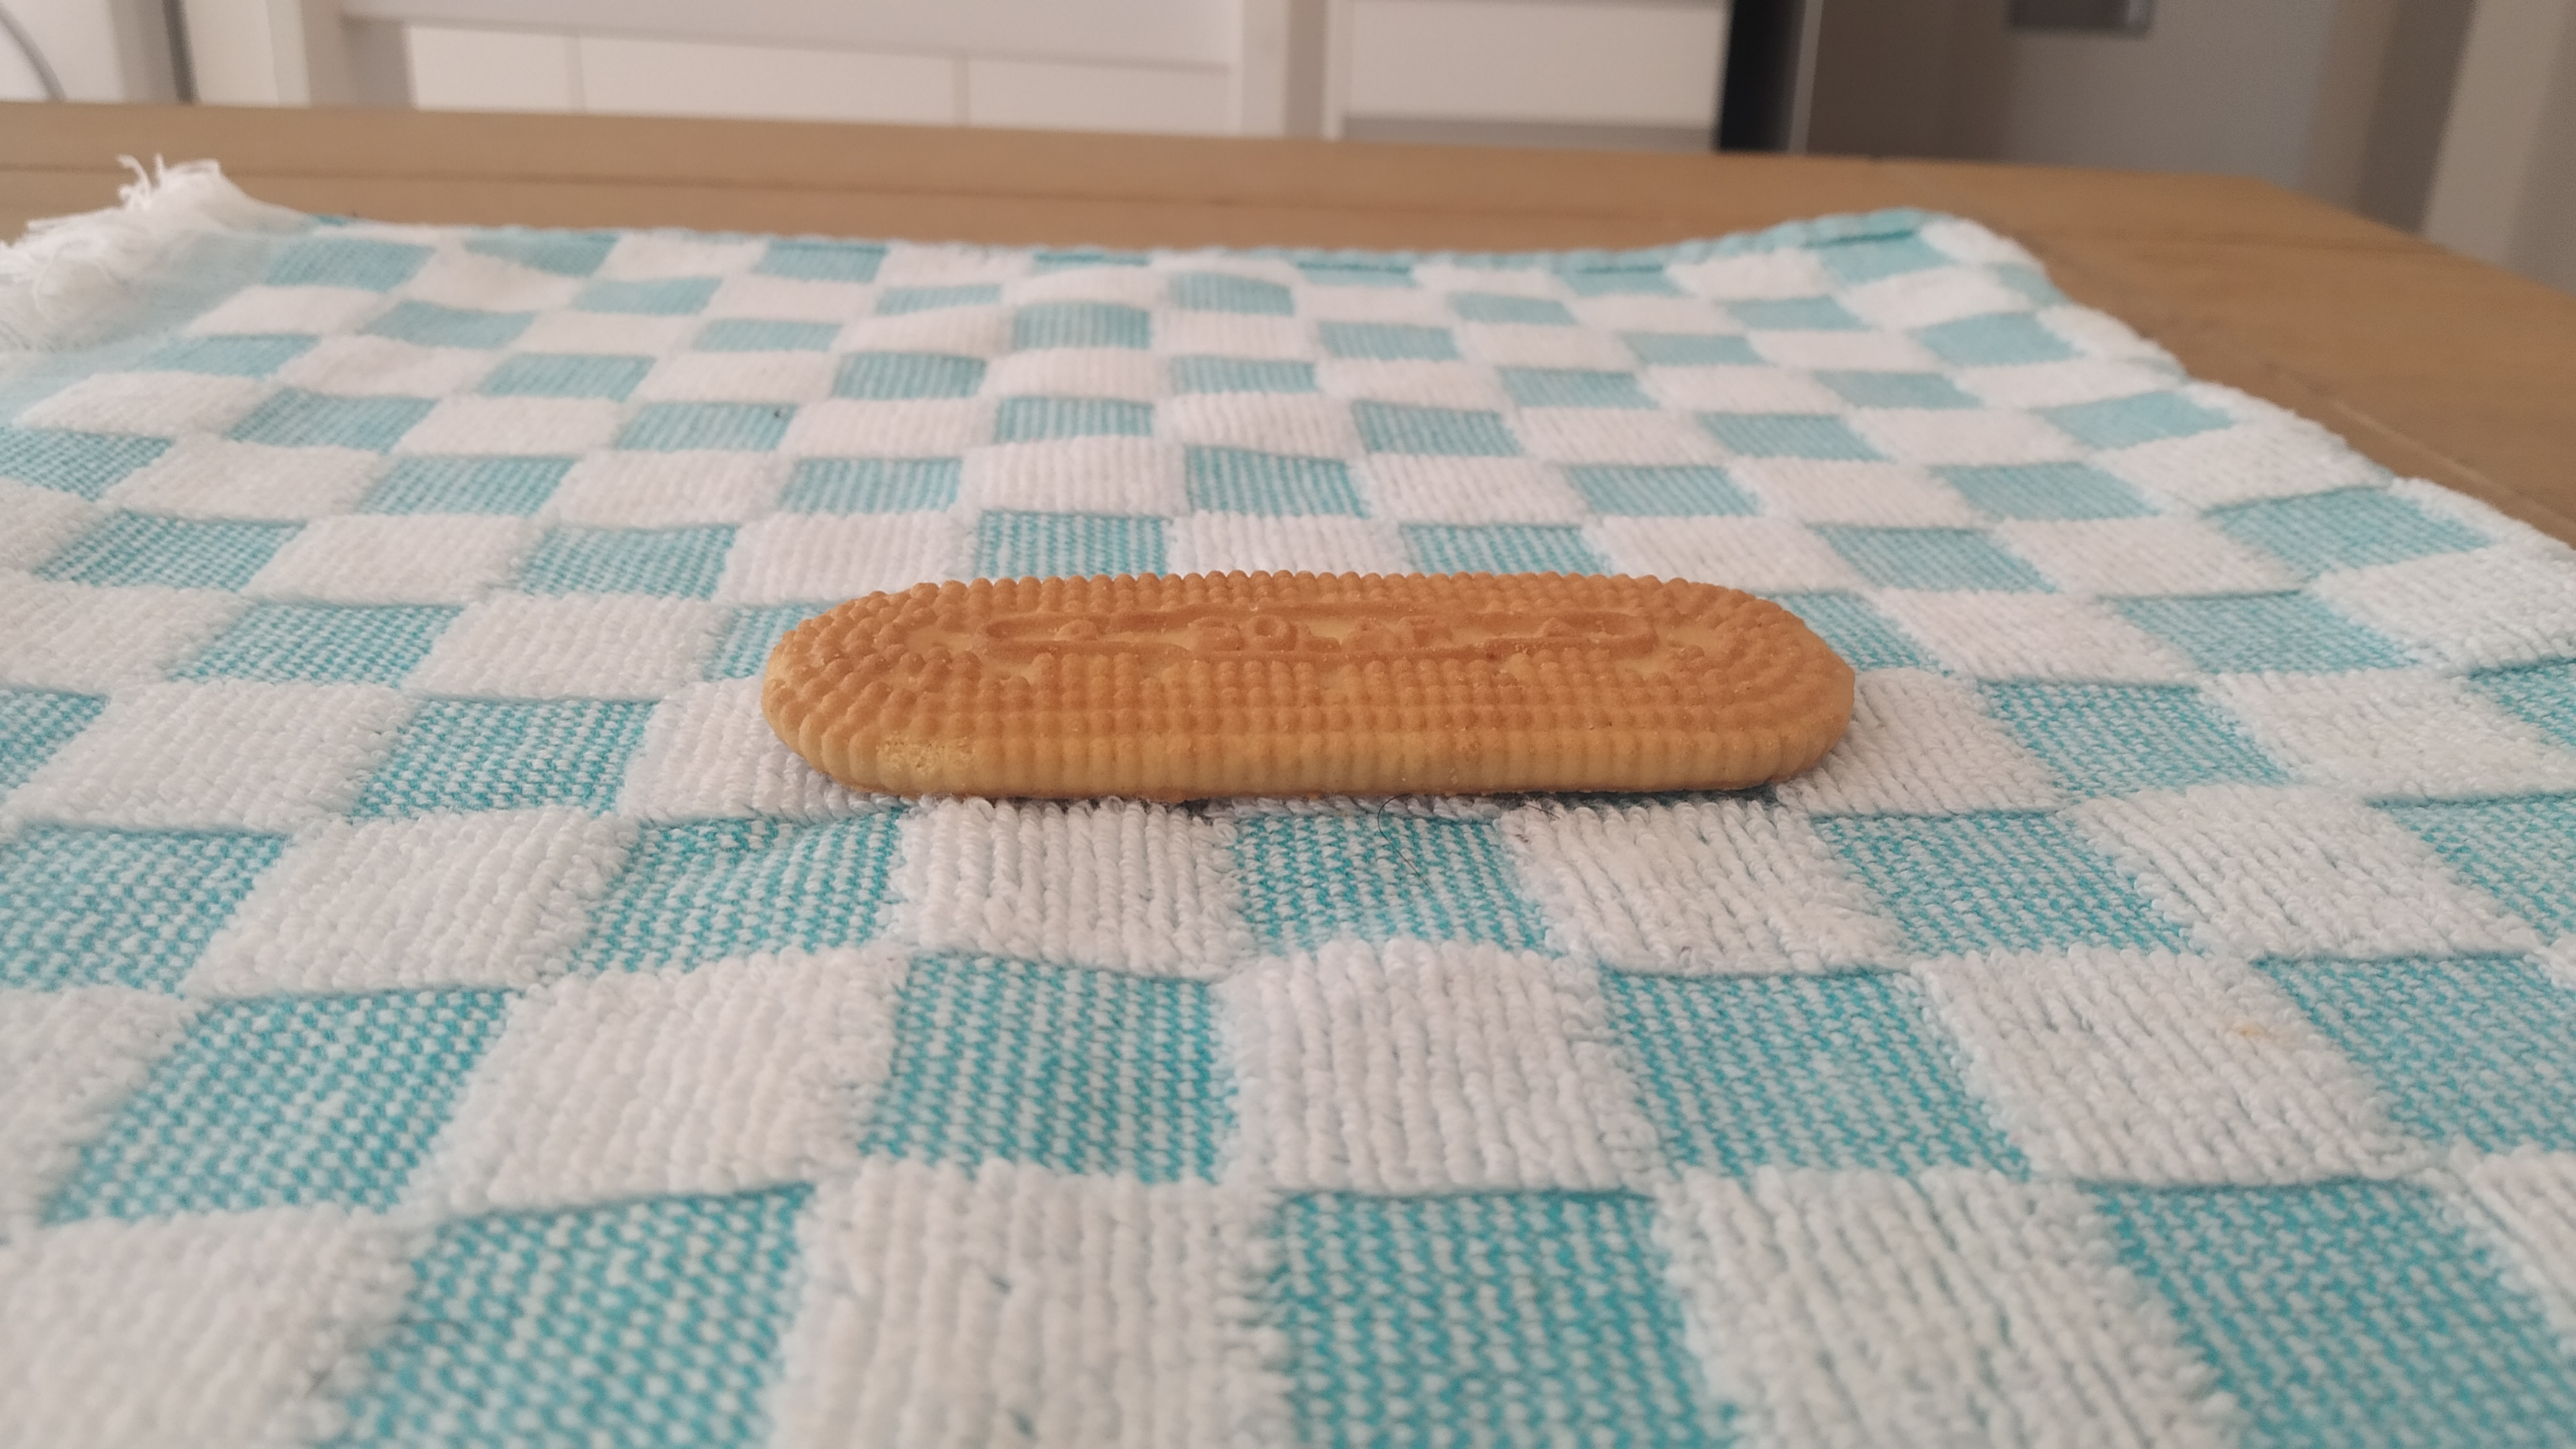solar: (763, 571, 1858, 796)
